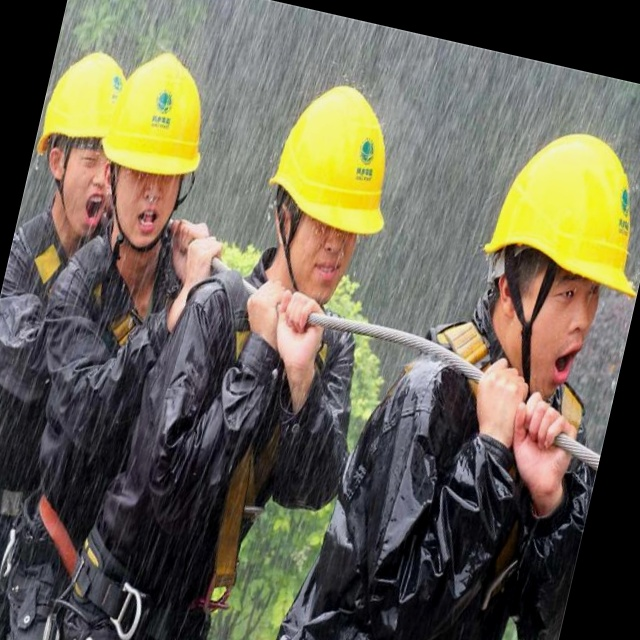Con_Casco: (250, 76, 412, 294)
